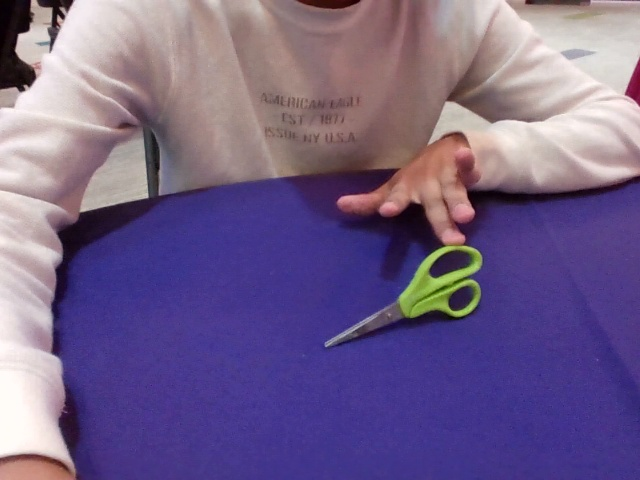tijeras: (324, 244, 483, 349)
